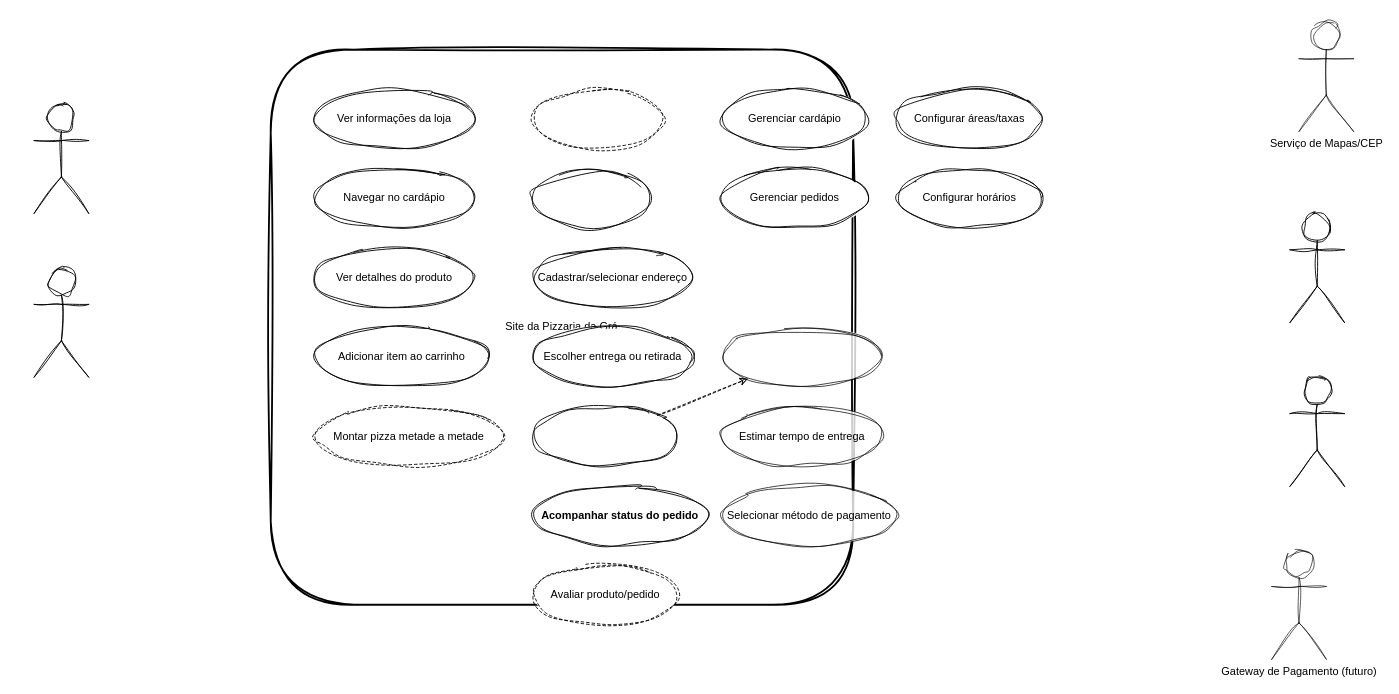
Image size: 1399x694. Some labels were removed from this diagram. Each missing label, with the box of its shape:
Administrador: (1289, 376, 1345, 486)
Atendente (loja): (1289, 212, 1345, 323)
Calcular taxa de entrega: (721, 326, 882, 387)
Cliente cadastrado: (33, 267, 89, 377)
Cliente visitante: (33, 103, 89, 213)
Fazer login: (532, 168, 649, 228)
Finalizar pedido: (532, 405, 678, 466)
Realizar cadastro: (532, 88, 664, 149)
